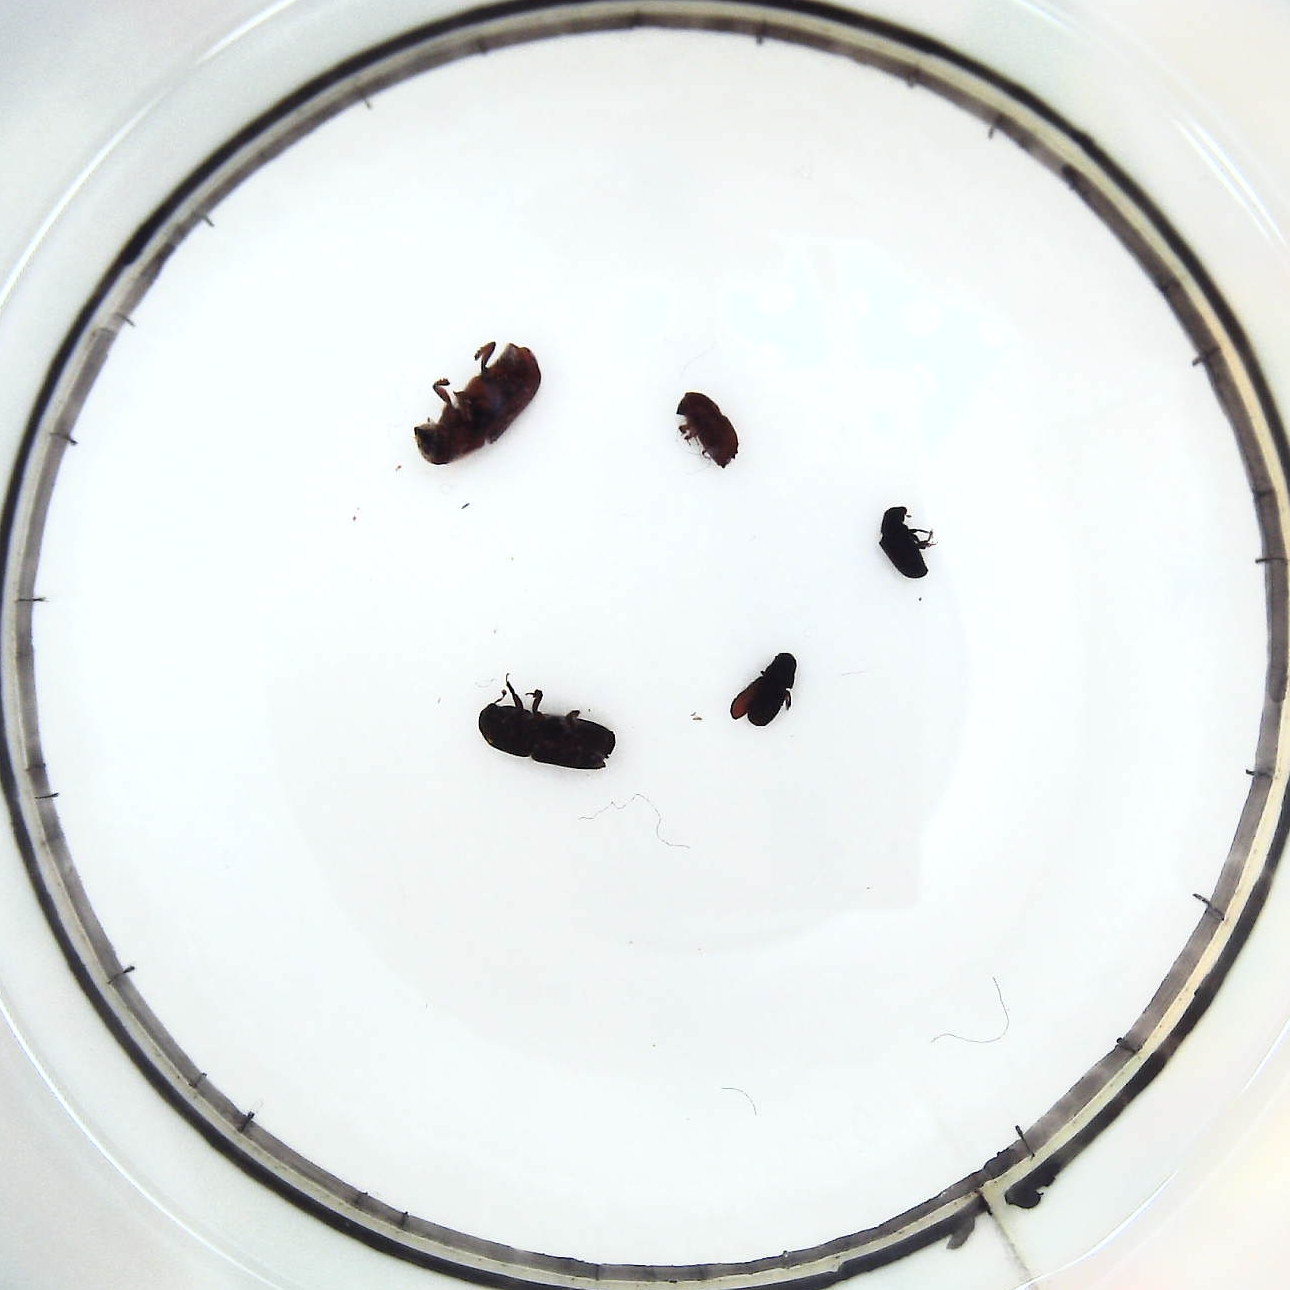Boerner: (469, 667, 620, 778)
Leconte: (410, 332, 549, 473)
armandi: (725, 644, 803, 732)
coleoptera: (874, 499, 937, 585)
linnaeus: (678, 385, 742, 473)
